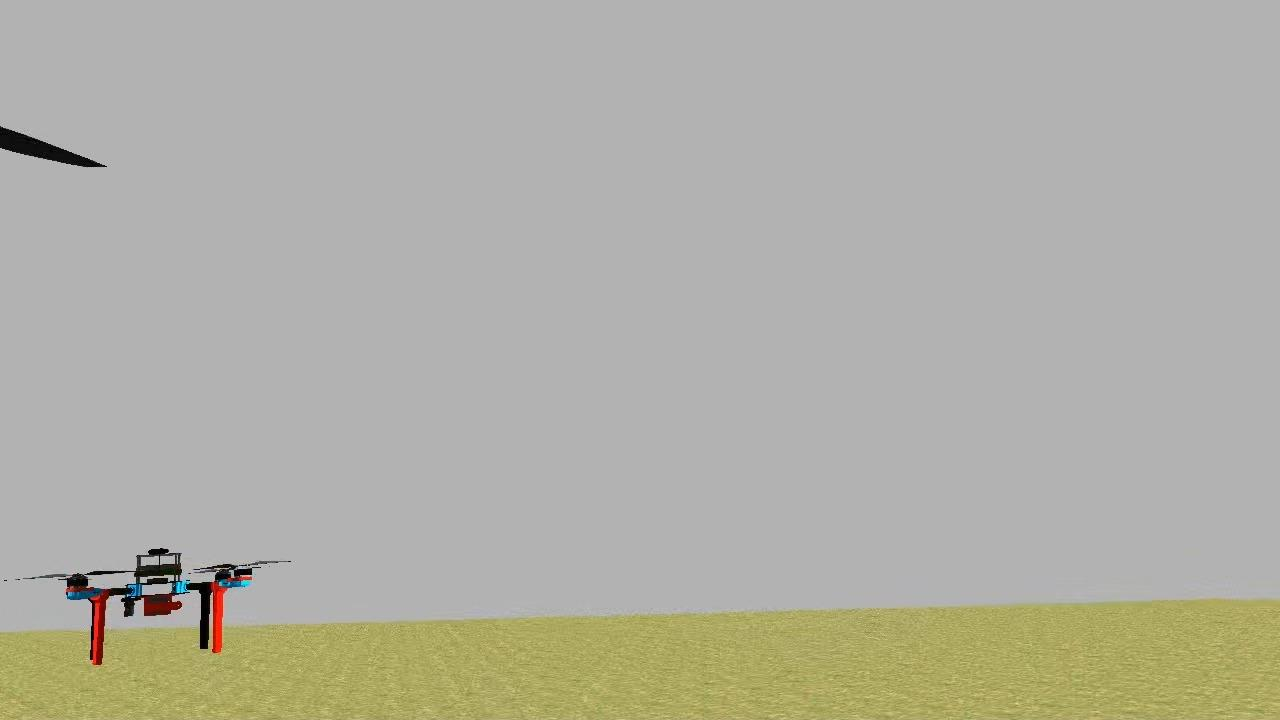UAV: (56, 540, 260, 668)
